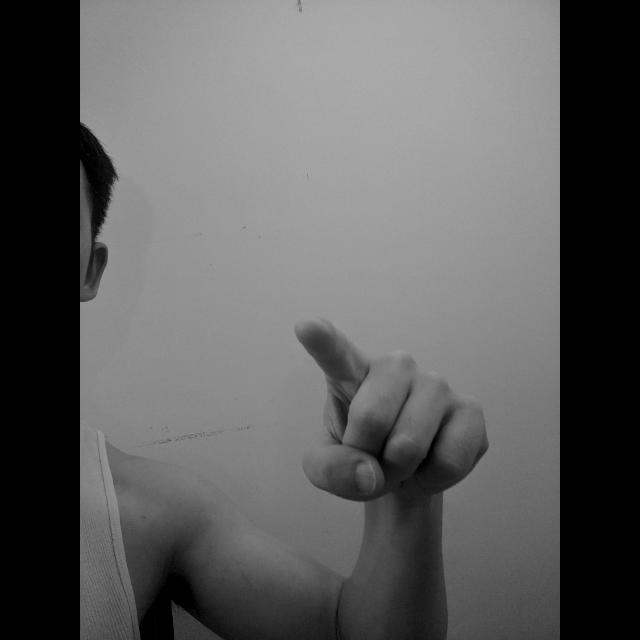Z: (290, 312, 492, 508)
